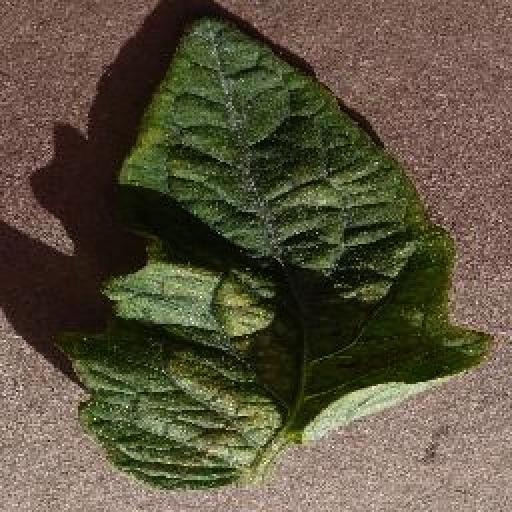disease_tomato: (63, 18, 497, 488)
